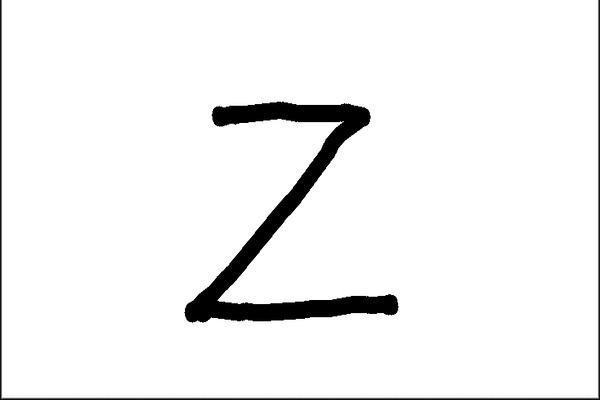Z: (167, 80, 413, 328)
